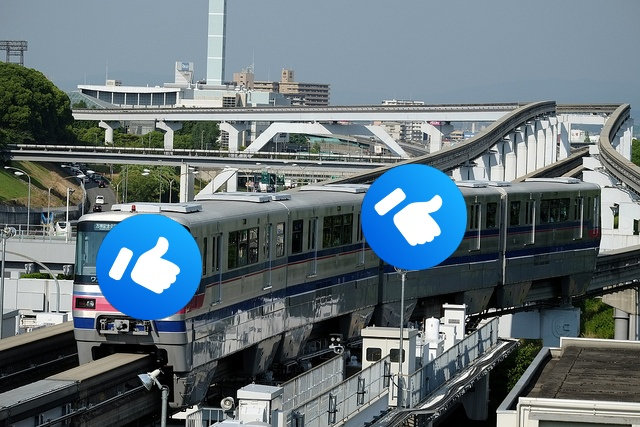like: (361, 164, 467, 270), (96, 214, 202, 320)
